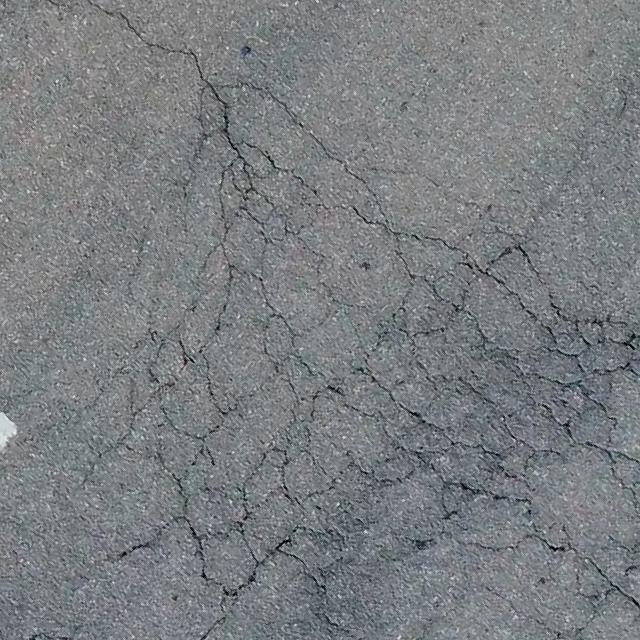GRIETA: (523, 87, 629, 235), (87, 0, 212, 87)
PIEL DE COCODRILO: (58, 74, 639, 639)
